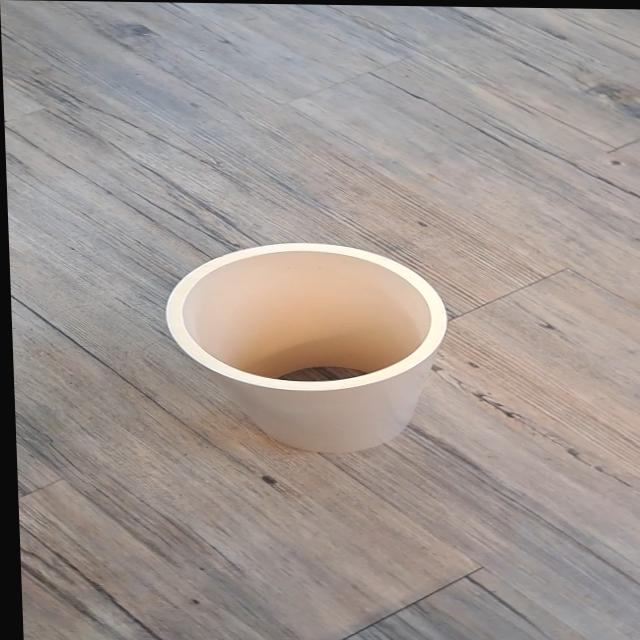CORAL: (128, 224, 492, 464)
